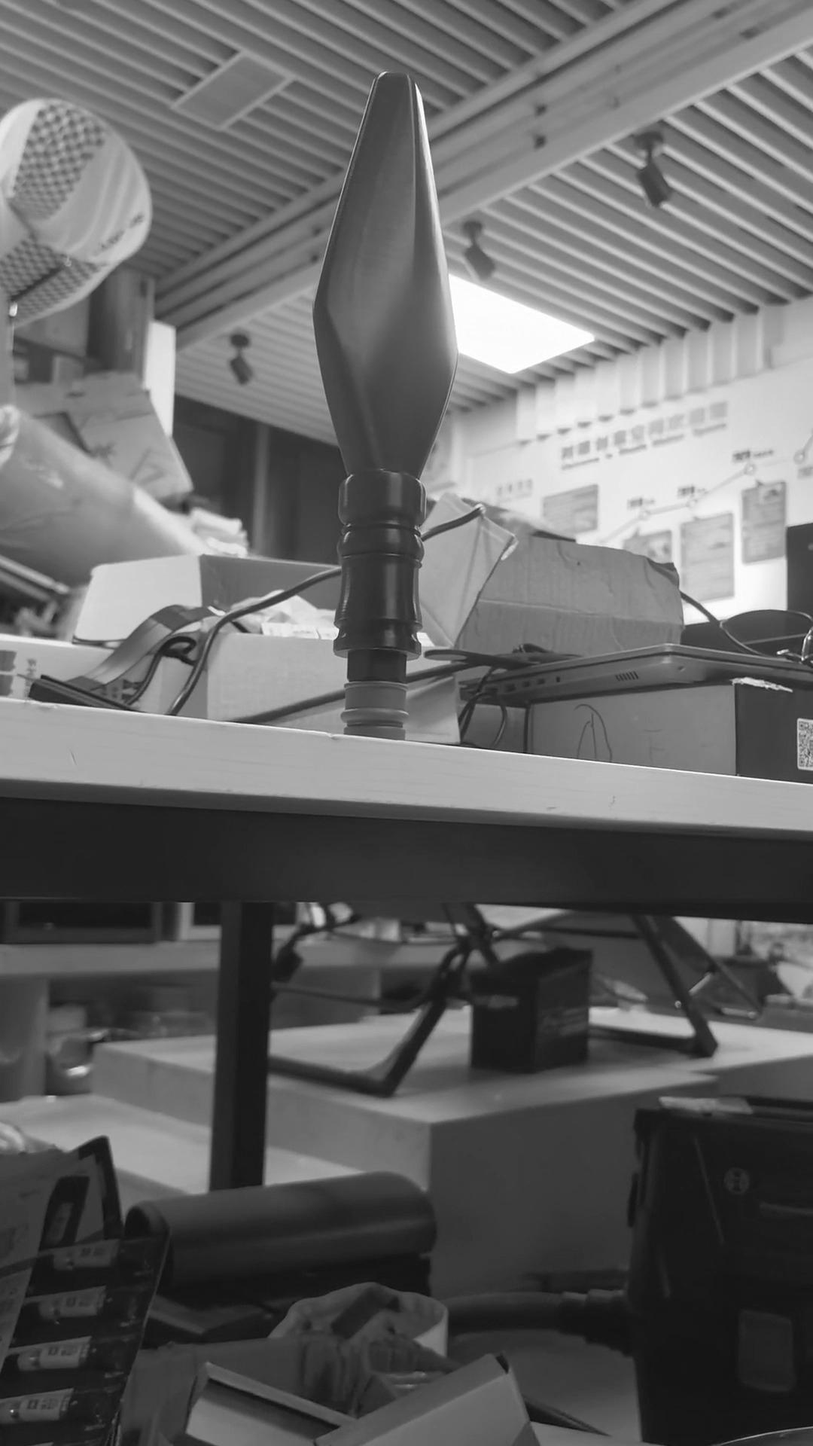base: (339, 680, 408, 733)
